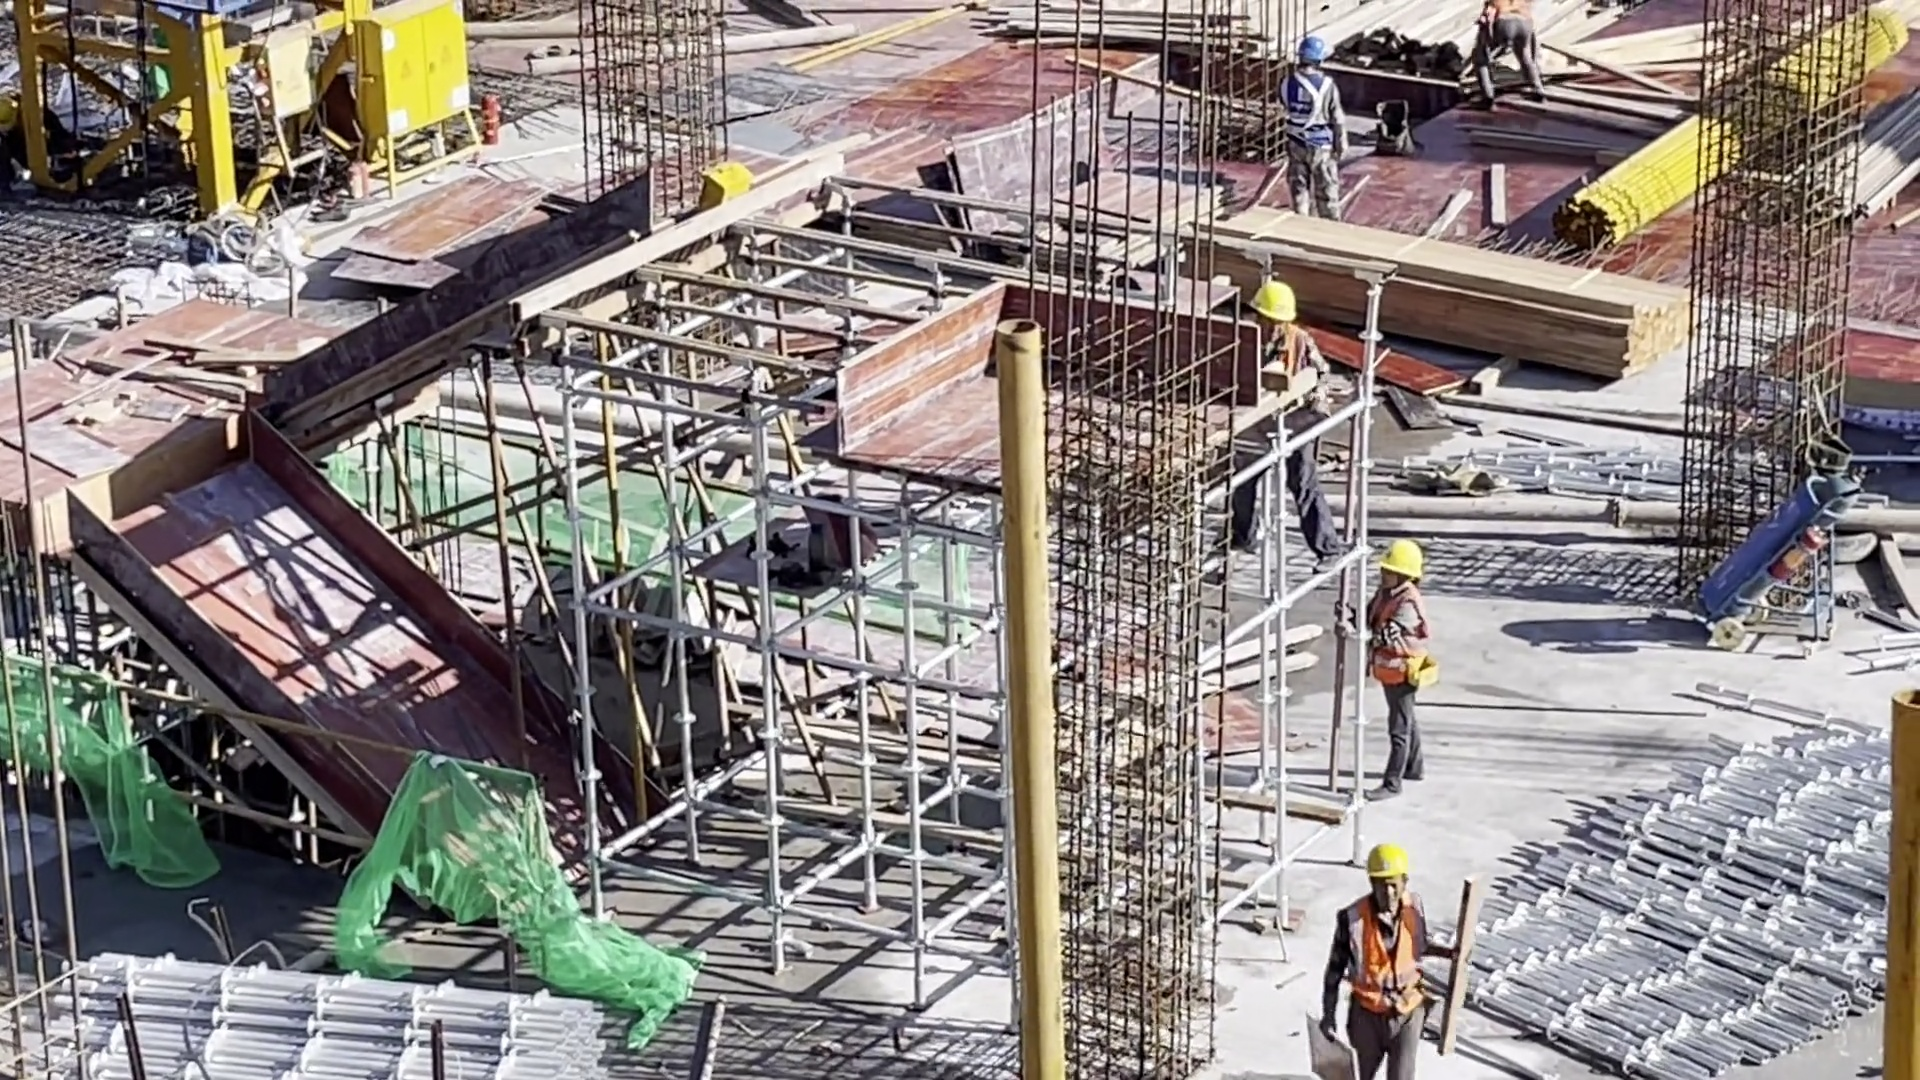ebox: (352, 1, 498, 194)
helmet: (1258, 275, 1306, 323), (1376, 532, 1420, 580), (1362, 842, 1407, 884), (1298, 38, 1329, 64)
person: (1312, 839, 1437, 1080), (1243, 272, 1345, 564), (1347, 537, 1440, 797), (1278, 39, 1351, 223), (1470, 2, 1547, 100), (6, 94, 72, 182)
scaffold: (1431, 716, 1896, 1075), (52, 950, 614, 1080)
vest: (1337, 895, 1424, 1025), (1370, 594, 1439, 690), (1288, 69, 1333, 147), (1485, 1, 1531, 28)
wood: (1183, 203, 1699, 380)
